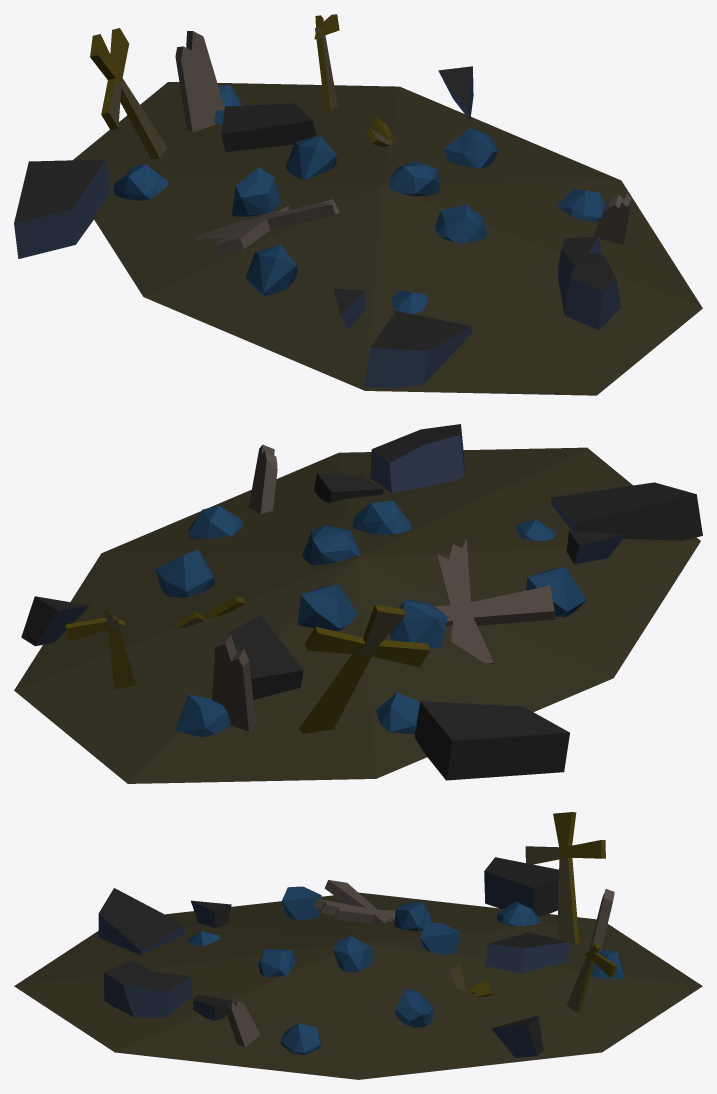
The model's file is Grave_3_MY.fbx.
3 renders of one model, top to bottom at view 1: azimuth 30°, elevation 25°; view 2: azimuth 150°, elevation 25°; view 3: azimuth 270°, elevation 25°, orthographic. The views are drawn at different scales.
Parts seen in each view (by area): view 1: Plane.001; view 2: Plane.001; view 3: Plane.001.
Boxes of the visible parts, x1,y1,x2,y2 form: Plane.001: (14, 14, 702, 395); Plane.001: (14, 424, 702, 783); Plane.001: (14, 812, 702, 1079).
Bounding box in the file's own units: 348 × 101 × 494.
